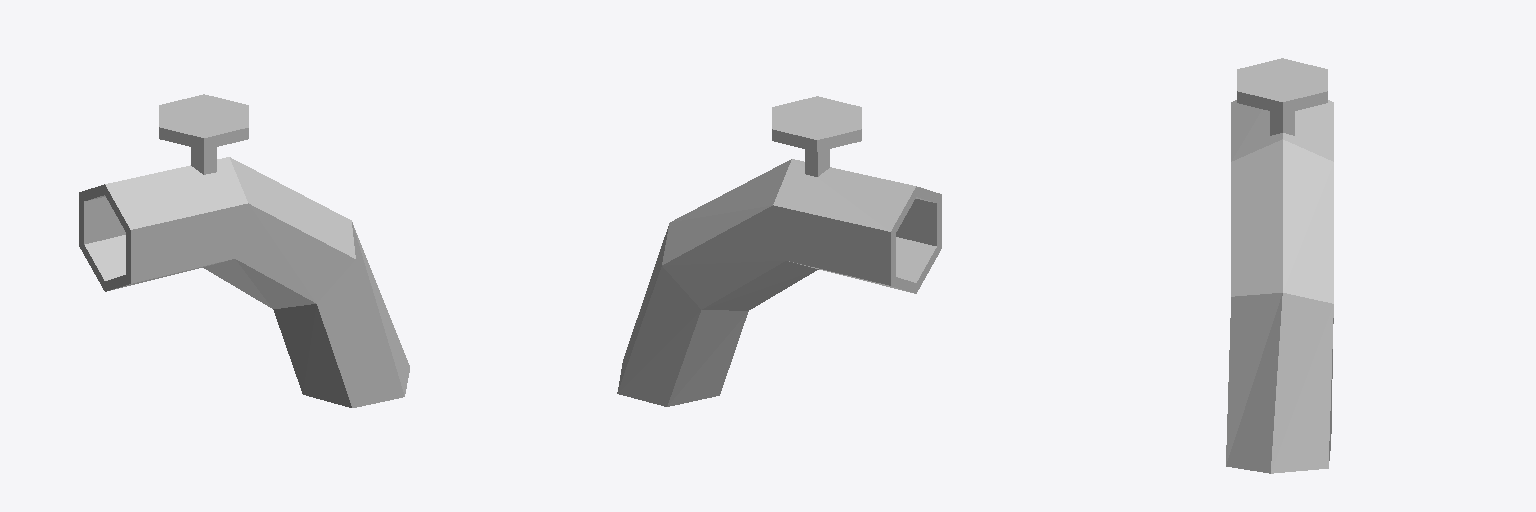
File: BathTap.obj
3 views of the same model, side by side, from view 1: azimuth 30°, elevation 25°; view 2: azimuth 150°, elevation 25°; view 3: azimuth 270°, elevation 25° (orthographic).
Visible parts, largest first — view 1: Tap; view 2: Tap; view 3: Tap.
Part boxes in pixels (left/top/right/bottom): Tap: left=79, top=94, right=409, bottom=407; Tap: left=617, top=96, right=941, bottom=406; Tap: left=1226, top=58, right=1333, bottom=473.
Size of the model in its own units: 0.3184 by 0.307 by 0.0997.